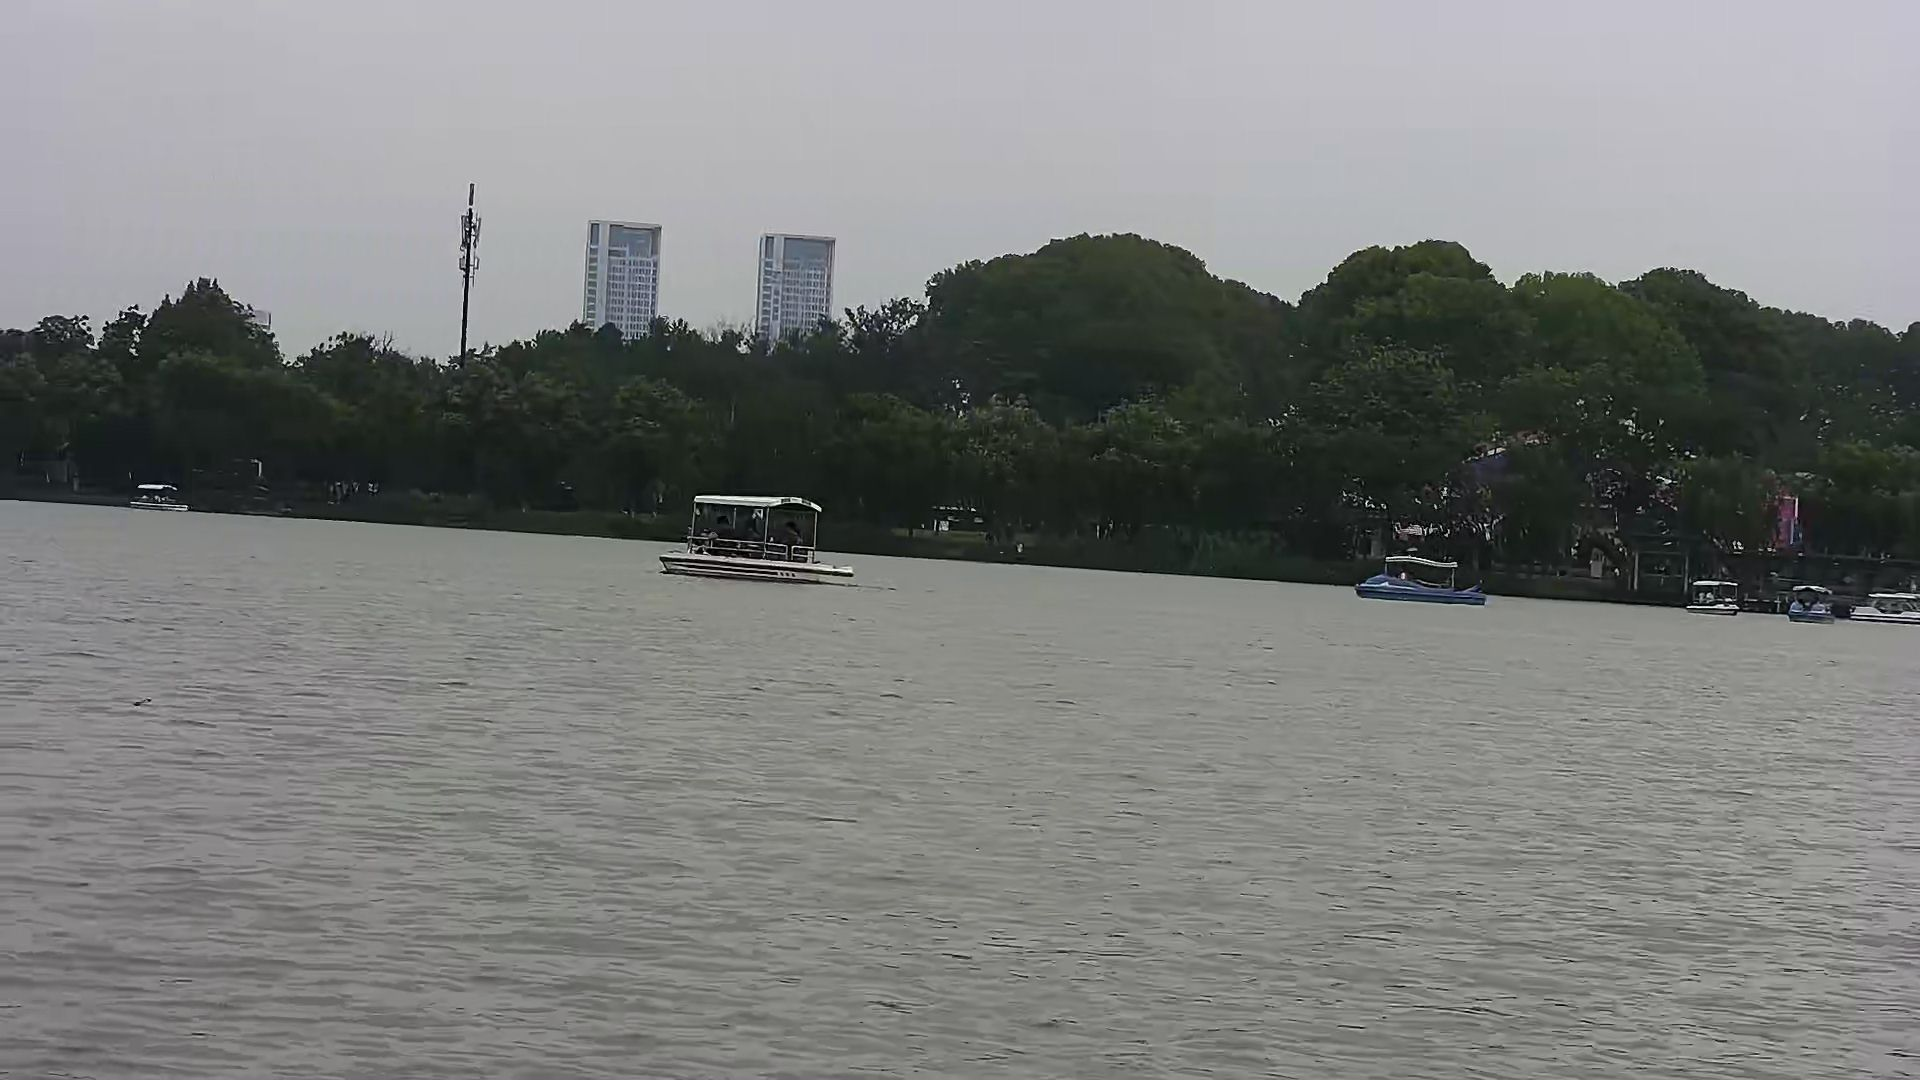boat: (659, 484, 858, 589), (1352, 549, 1493, 607), (1684, 578, 1737, 620), (123, 480, 187, 513), (1784, 582, 1832, 622)
